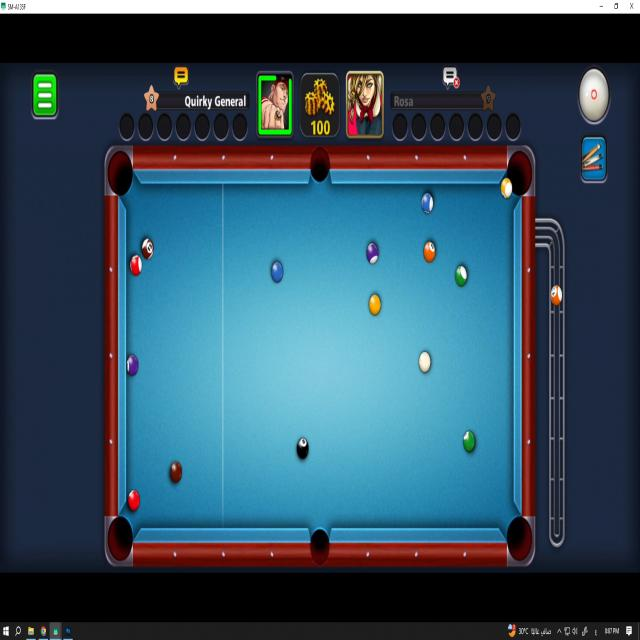object_ball: (142, 238, 154, 260), (130, 255, 142, 276), (271, 262, 283, 283), (170, 462, 182, 482), (455, 266, 467, 286), (297, 438, 308, 459), (463, 431, 474, 452), (367, 243, 378, 264), (369, 294, 380, 315), (424, 242, 435, 263), (127, 355, 138, 375), (422, 193, 433, 213), (501, 178, 512, 198), (128, 491, 139, 510)
white_cue_ball: (419, 352, 430, 372)
